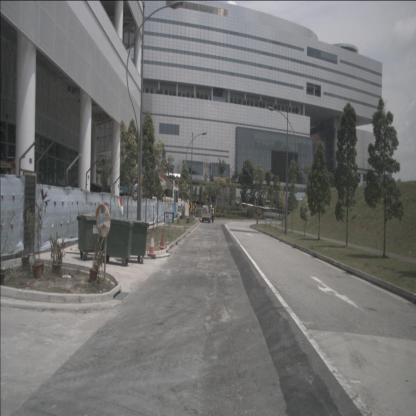cone: (147, 231, 156, 256), (159, 228, 165, 249)
